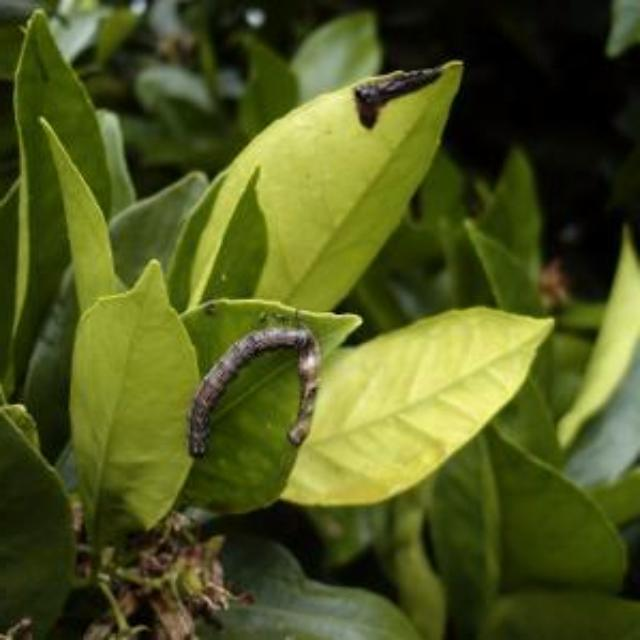Cotton bollworm: (170, 314, 360, 494)
